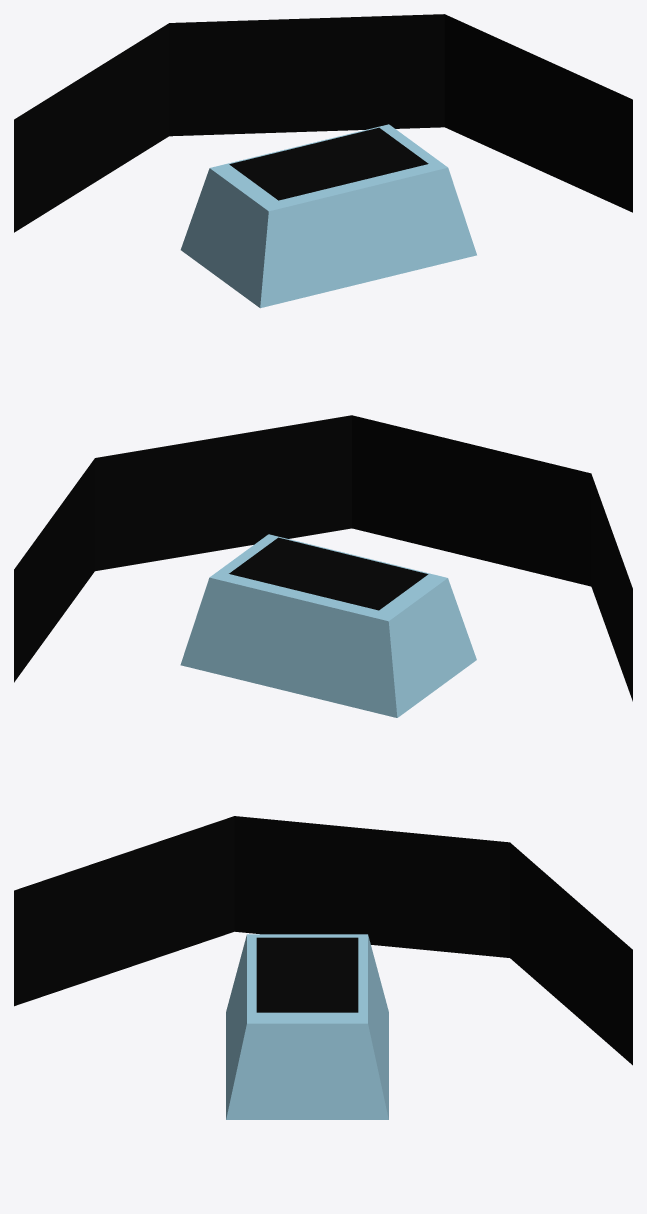
Rendered from cursor-start.glb.
3 renders of one model, top to bottom at view 1: azimuth 30°, elevation 25°; view 2: azimuth 150°, elevation 25°; view 3: azimuth 270°, elevation 25°, orthographic. The views are drawn at different scales.
Visible parts, largest first — view 1: text-ribbon, tab-key; view 2: text-ribbon, tab-key; view 3: text-ribbon, tab-key.
Boxes of the visible parts, bbox=[...] form: text-ribbon: bbox=[14, 14, 632, 232]; tab-key: bbox=[180, 124, 476, 308]; text-ribbon: bbox=[14, 415, 632, 701]; tab-key: bbox=[180, 534, 476, 717]; text-ribbon: bbox=[14, 816, 632, 1065]; tab-key: bbox=[226, 934, 388, 1119].
Size of the model in its own units: 1.95 by 0.3924 by 1.9.
2 materials, 1 textured.
